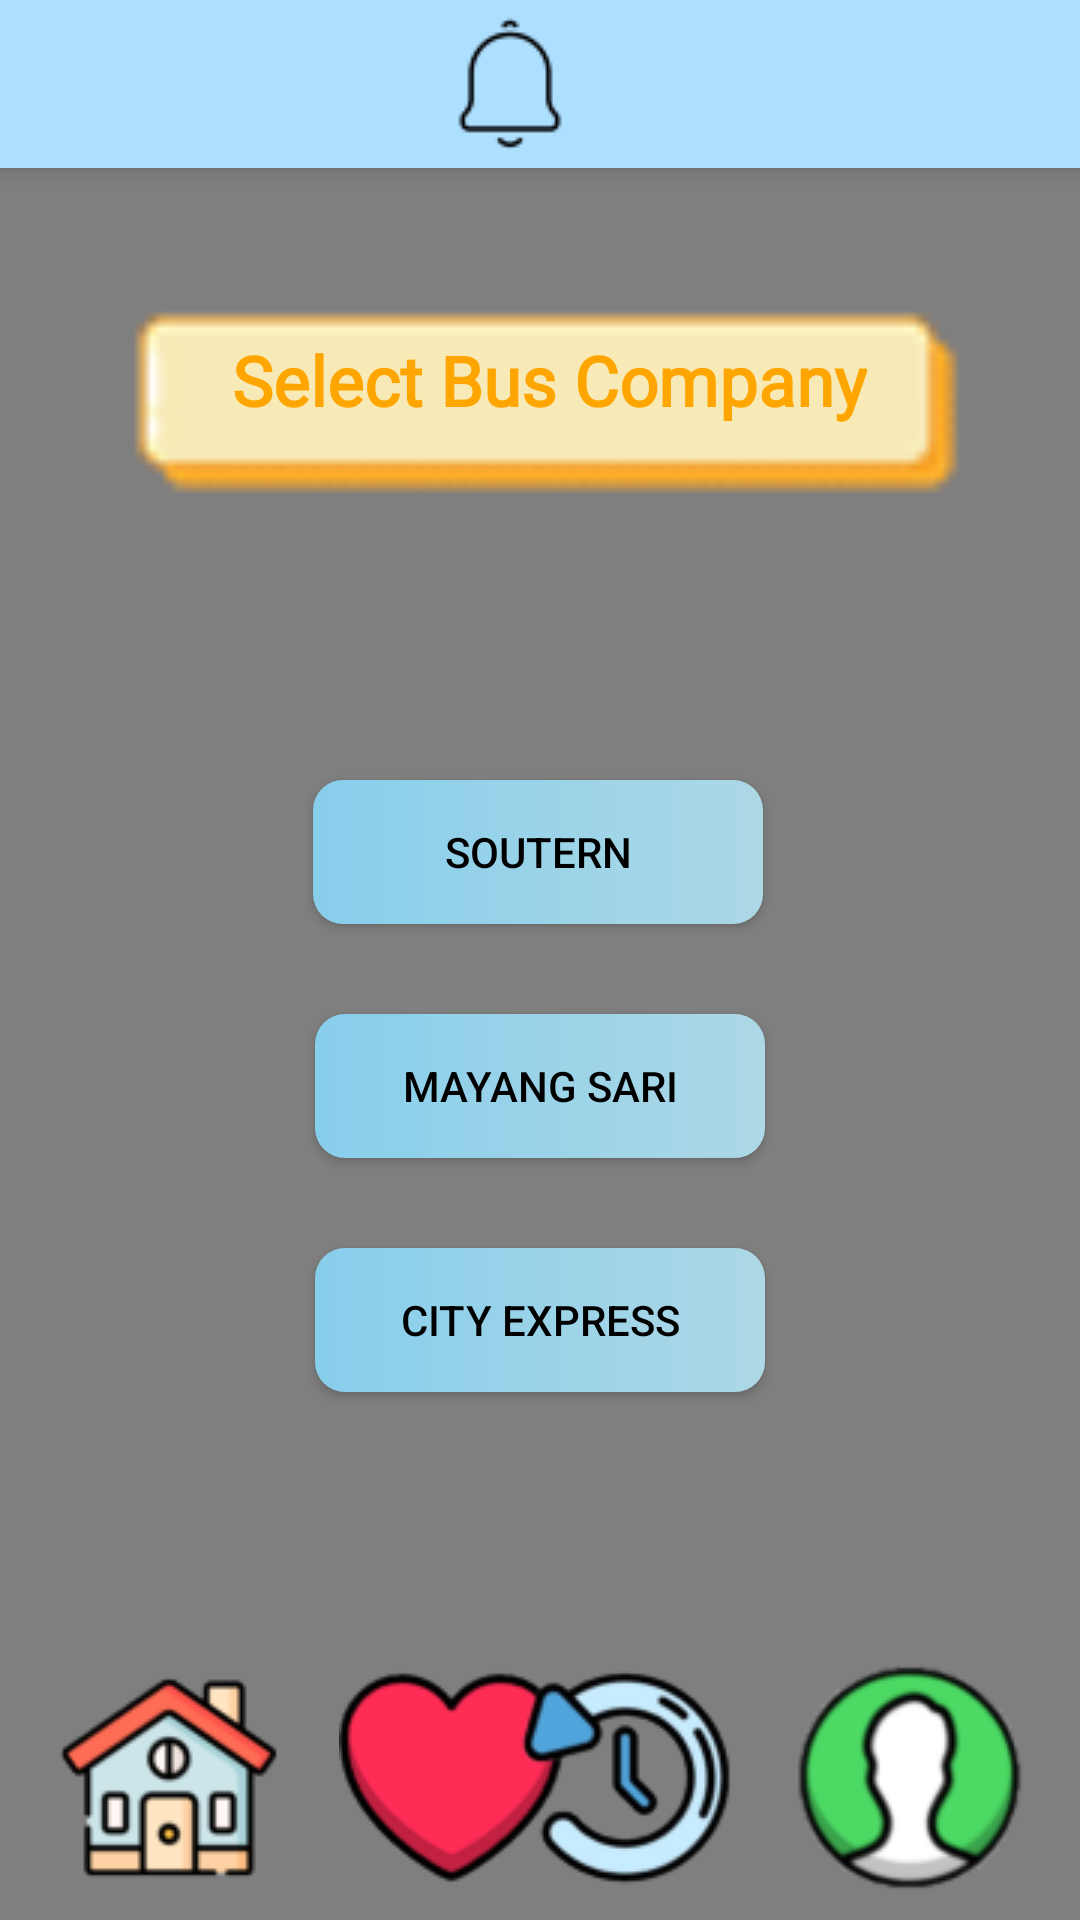

Screen size 1080w x 1920h. Icon name, then its center in pixels as point (x, y):
heart: point (451, 1777)
history: point (623, 1777)
home: point (169, 1777)
notification: point (510, 83)
profile: point (909, 1777)
